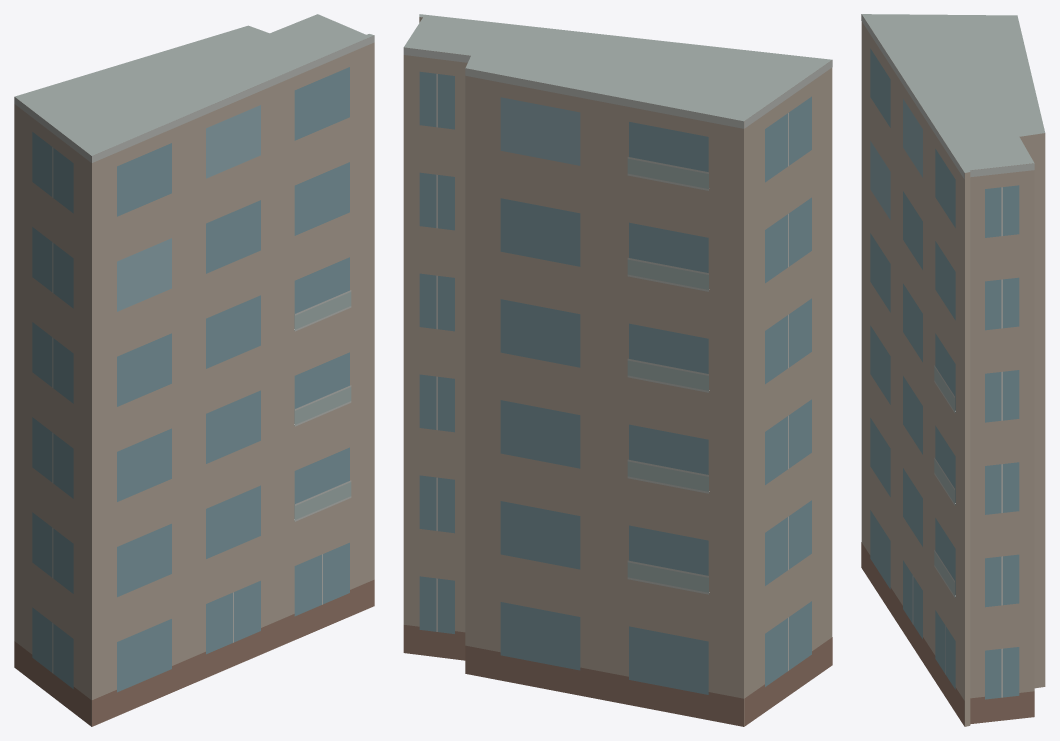
File: survey-upis-32464199.glb
3 views of the same model, side by side, from view 1: azimuth 30°, elevation 25°; view 2: azimuth 150°, elevation 25°; view 3: azimuth 270°, elevation 25° (orthographic). The views are drawn at different scales.
Visible parts, largest first — view 1: survey-upis-32464199.tmp; view 2: survey-upis-32464199.tmp; view 3: survey-upis-32464199.tmp.
Part boxes in pixels (left/top/right/bottom): survey-upis-32464199.tmp: left=14, top=14, right=374, bottom=726; survey-upis-32464199.tmp: left=403, top=14, right=832, bottom=726; survey-upis-32464199.tmp: left=861, top=14, right=1045, bottom=726.
Bounding box in the file's own units: 12.02 × 19.5 × 5.87.
